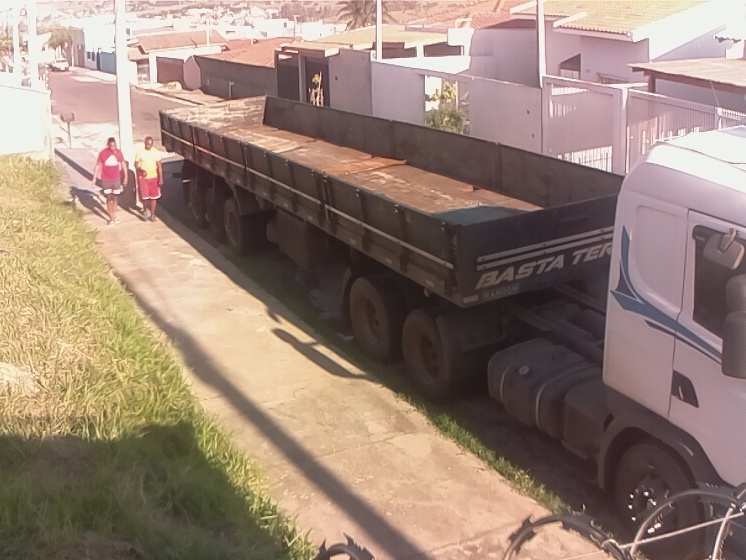person: (89, 136, 130, 229), (133, 135, 170, 223)
